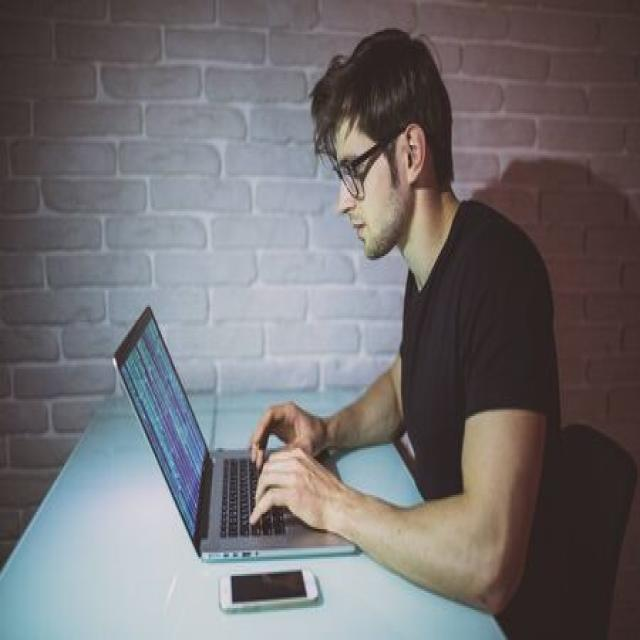notebook-person: (107, 18, 583, 640)
